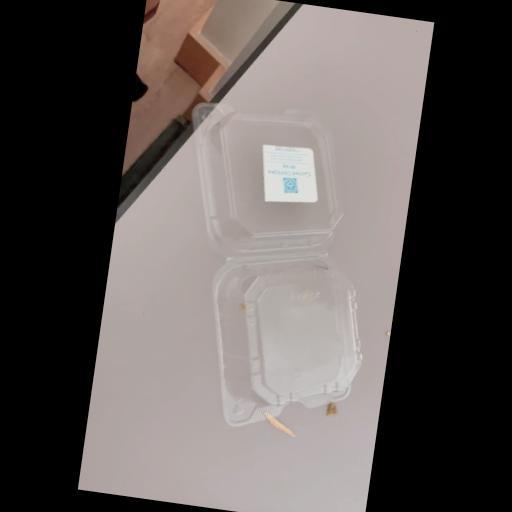small_plastic_container: (148, 98, 398, 443)
